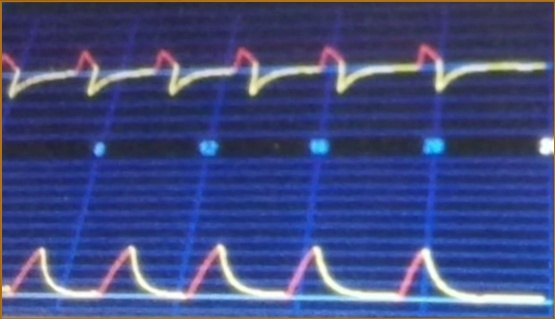Normal Flow: (2, 20, 547, 121)
Normal Volume: (2, 222, 542, 312)
